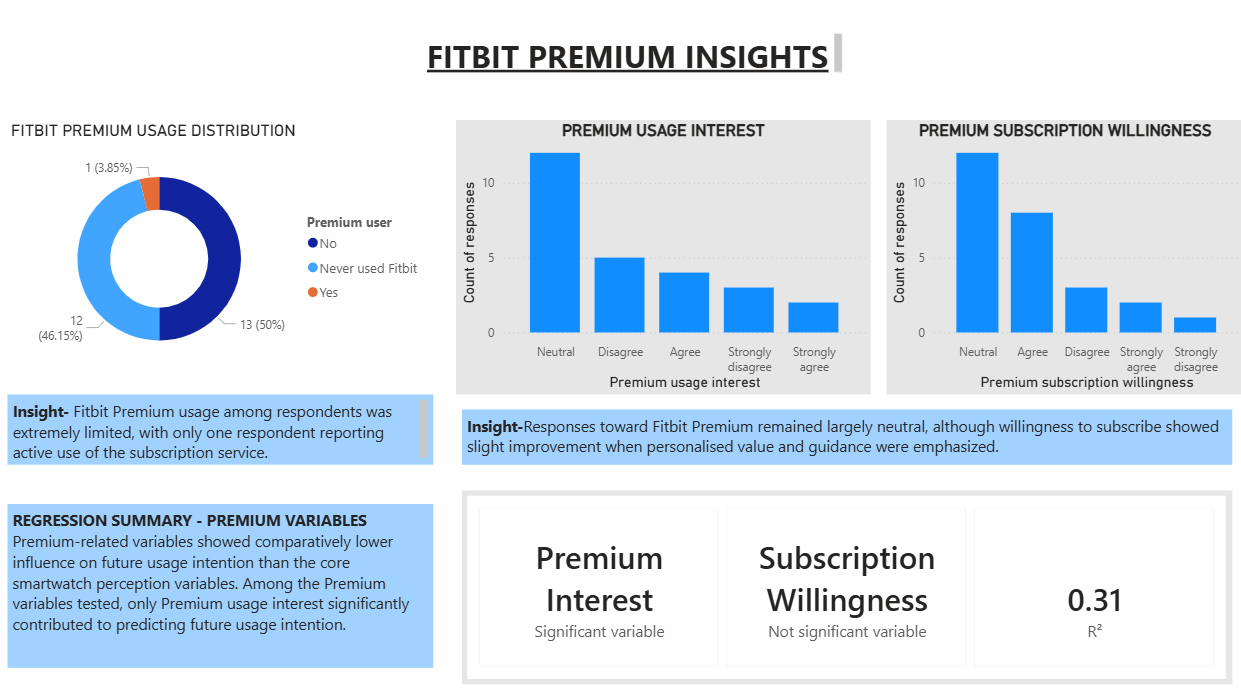

The page's visual inventory and layout, read from the dashboard file:
{"tool":"powerbi","page":{"name":"Page 3","canvas":[1280,720],"ordinal":2},"visuals":[{"type":"textbox","box":[434.6,32.1,436.5,51],"z":0},{"type":"donutChart","title":"FITBIT PREMIUM USAGE DISTRIBUTION","fields":{"Category":["Form_Responses(Text).Premium user"],"Y":["CountNonNull(Form_Responses(Text).Premium user)"]},"box":[9.4,126.6,436.5,264.6],"z":1000},{"type":"clusteredColumnChart","title":"PREMIUM USAGE INTEREST","fields":{"Category":["Form_Responses(Text).Premium usage interest"],"Y":["CountNonNull(Form_Responses(Text).Premium usage interest)"]},"box":[470.6,126.6,425.2,281.6],"z":2000},{"type":"clusteredColumnChart","title":"PREMIUM SUBSCRIPTION WILLINGNESS","fields":{"Category":["Form_Responses(Text).Premium subscription willingness"],"Y":["CountNonNull(Form_Responses(Text).Premium subscription willingness)"]},"box":[912.8,126.6,366.6,281.6],"z":3000},{"type":"textbox","box":[11.3,408.2,436.5,71.8],"z":4000},{"type":"textbox","box":[476.2,423.3,789.9,56.7],"z":5000},{"type":"textbox","box":[11.3,519.7,436.5,168.2],"z":6000},{"type":"cardVisual","fields":{"Data":["DAX measures.Significant variable","DAX measures.Not significant variable","DAX measures.R²"]},"box":[476.2,506.5,789.9,198.4],"z":7000}]}

Visuals, with their boxes in screenshot pixels (x1, y1, x2, y2), scaled from the page's 1280x720 canvas onto the 1241x698 screenshot:
textbox: x1=421, y1=31, x2=845, y2=81
"FITBIT PREMIUM USAGE DISTRIBUTION" donutChart: x1=9, y1=123, x2=432, y2=379
"PREMIUM USAGE INTEREST" clusteredColumnChart: x1=456, y1=123, x2=869, y2=396
"PREMIUM SUBSCRIPTION WILLINGNESS" clusteredColumnChart: x1=885, y1=123, x2=1240, y2=396
textbox: x1=11, y1=396, x2=434, y2=465
textbox: x1=462, y1=410, x2=1228, y2=465
textbox: x1=11, y1=504, x2=434, y2=667
cardVisual - DAX measures.Significant variable x DAX measures.Not significant variable: x1=462, y1=491, x2=1228, y2=683
